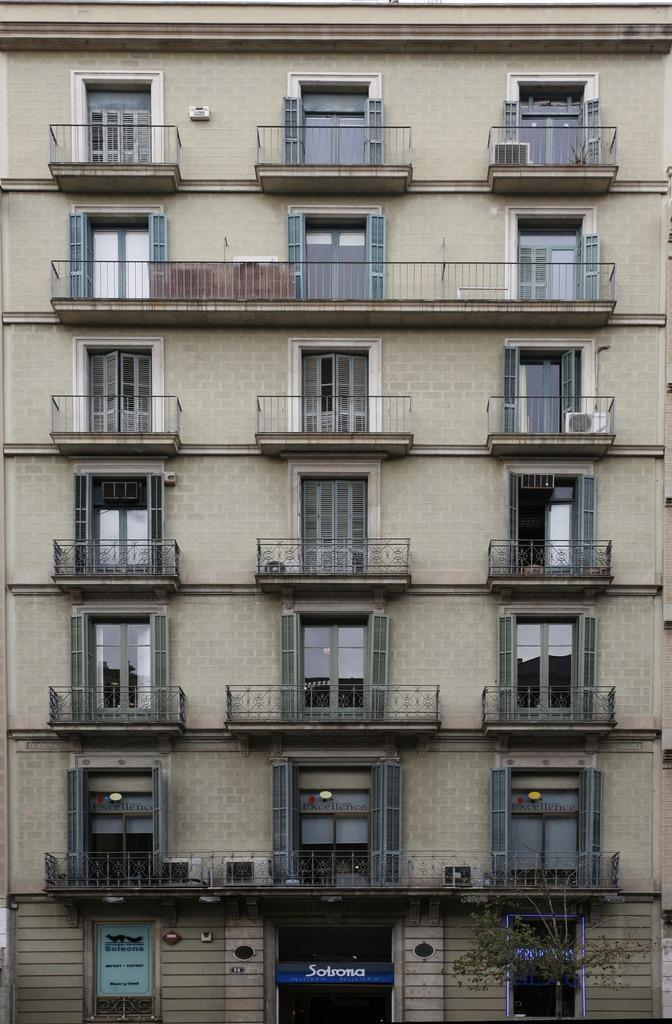window: (510, 769, 581, 889), (300, 765, 371, 884), (85, 769, 156, 888), (300, 614, 370, 724), (513, 615, 583, 725), (86, 613, 155, 723), (87, 474, 151, 575), (302, 476, 366, 576), (515, 477, 579, 577), (516, 347, 584, 435), (302, 215, 368, 301), (303, 83, 371, 166), (86, 80, 153, 164), (85, 213, 150, 299), (88, 348, 153, 434), (305, 349, 370, 435), (519, 215, 583, 302), (520, 82, 584, 165)
